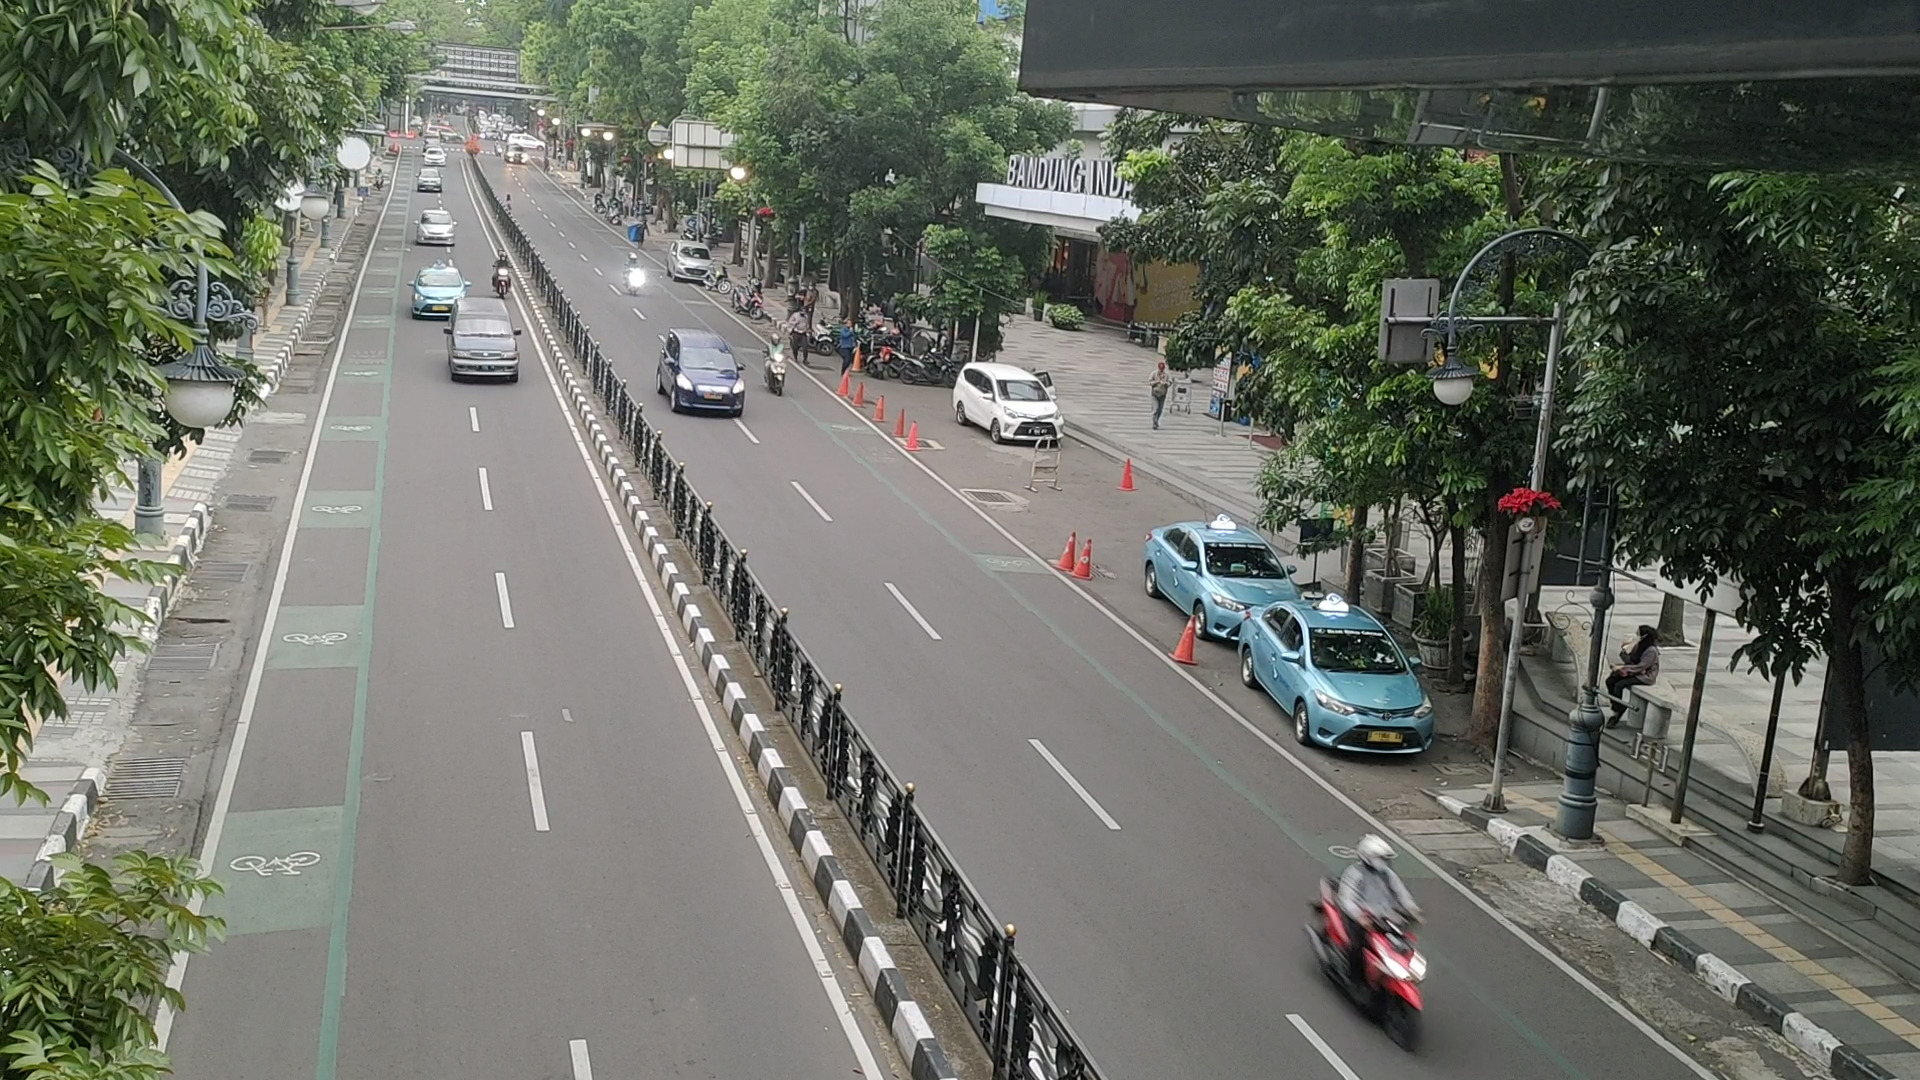mobil: (1295, 622, 1439, 756), (665, 342, 746, 419), (986, 375, 1068, 447), (446, 311, 520, 390)
motor: (1307, 836, 1437, 1055)
